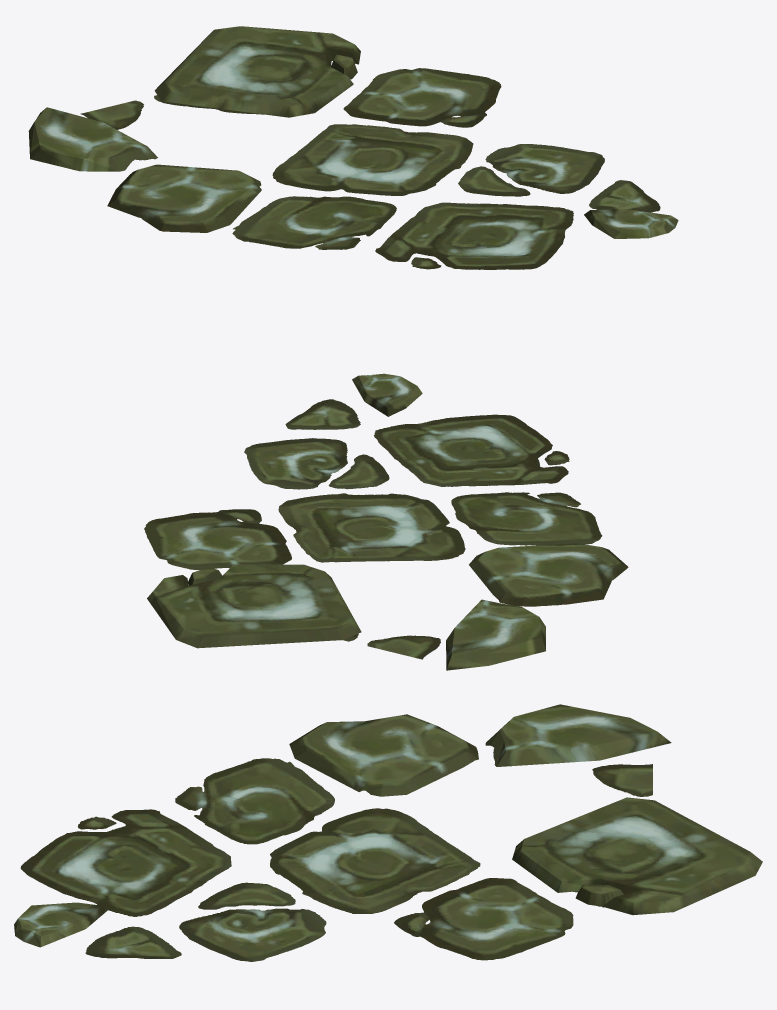
File: pavers_t_snow_01.fbx
3 renders of one model, top to bottom at view 1: azimuth 30°, elevation 25°; view 2: azimuth 150°, elevation 25°; view 3: azimuth 270°, elevation 25°, orthographic. The views are drawn at different scales.
Parts seen in each view (by area): view 1: obj0.101; view 2: obj0.101; view 3: obj0.101.
Boxes of the visible parts, x1,y1,x2,y2 form: obj0.101: (28, 26, 678, 269); obj0.101: (144, 373, 628, 670); obj0.101: (14, 704, 762, 961).
Size of the model in its own units: 5.22 by 0.1288 by 5.88.
